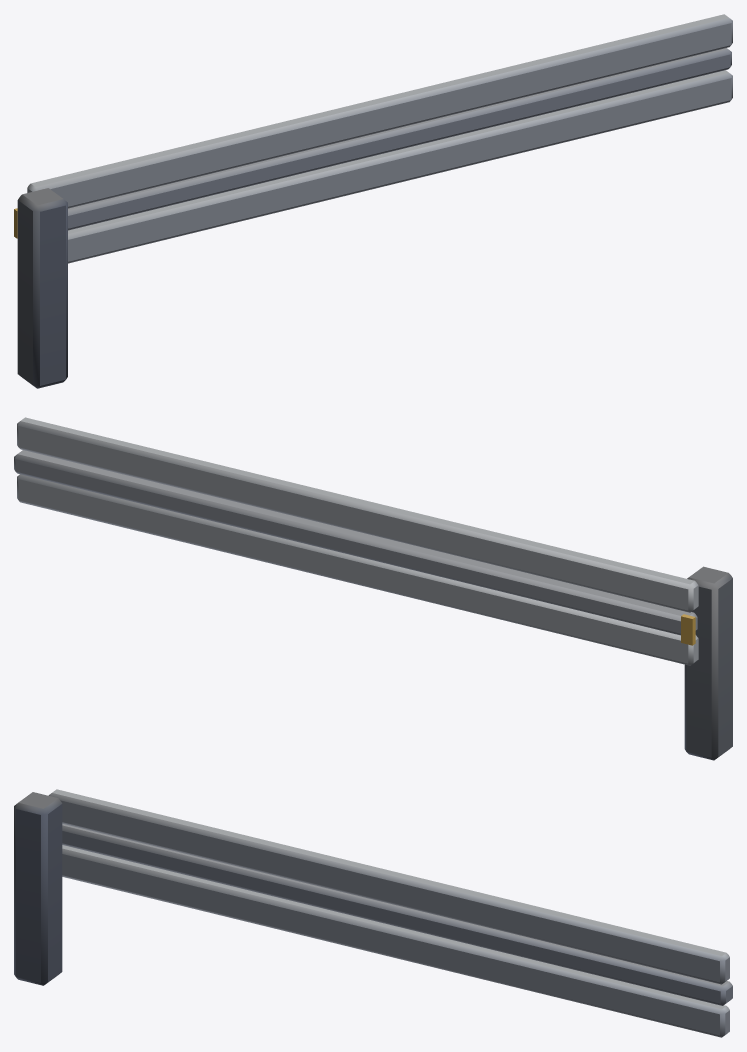
The model's file is GuardRail.fbx.
3 views of the same model, one above another, from view 1: azimuth 30°, elevation 25°; view 2: azimuth 150°, elevation 25°; view 3: azimuth 330°, elevation 25° (orthographic). The views are drawn at different scales.
Parts seen in each view (by area): view 1: SM_Road_GuardRail; view 2: SM_Road_GuardRail; view 3: SM_Road_GuardRail.
Boxes of the visible parts, bbox=[...] form: SM_Road_GuardRail: bbox=[14, 14, 732, 388]; SM_Road_GuardRail: bbox=[14, 417, 732, 760]; SM_Road_GuardRail: bbox=[14, 789, 732, 1037].
Size of the model in its own units: 8.2 by 2.01 by 0.65.
